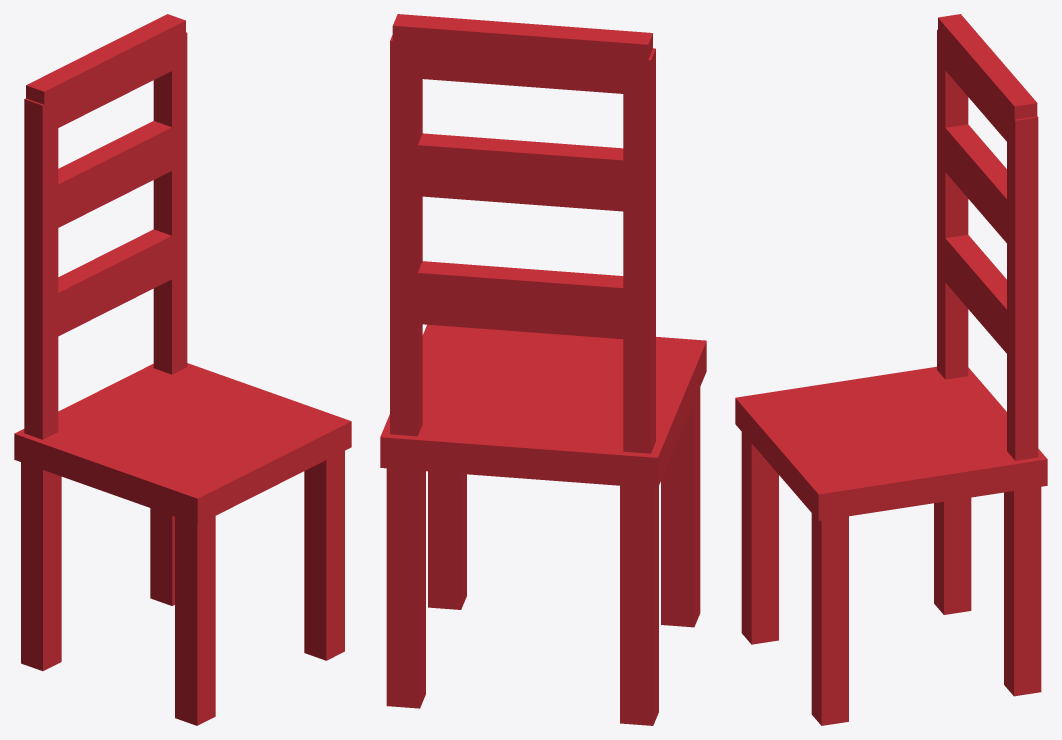
Rendered from shop-red-chair.glb.
3 renders of one model, left to right at view 1: azimuth 30°, elevation 25°; view 2: azimuth 150°, elevation 25°; view 3: azimuth 270°, elevation 25°, orthographic. The views are drawn at different scales.
Parts seen in each view (by area): view 1: RedChair_Seat, RedChair_BackR, RedChair_BackL, RedChair_Leg.003, RedChair_Leg.002, RedChair_Leg.001, RedChair_Rail.002, RedChair_Rail, RedChair_Rail.001, RedChair_Leg; view 2: RedChair_Seat, RedChair_Rail.002, RedChair_Rail.001, RedChair_Rail, RedChair_BackR, RedChair_Leg, RedChair_Leg.002, RedChair_BackL, RedChair_Leg.003, RedChair_Leg.001; view 3: RedChair_Seat, RedChair_BackL, RedChair_Leg.001, RedChair_Leg, RedChair_Leg.003, RedChair_BackR, RedChair_Rail.002, RedChair_Rail.001, RedChair_Rail, RedChair_Leg.002.
Boxes of the visible parts, <box> form: RedChair_Seat: <box>14,363,351,524</box>; RedChair_BackR: <box>24,98,58,439</box>; RedChair_BackL: <box>153,32,187,374</box>; RedChair_Leg.003: <box>175,516,215,725</box>; RedChair_Leg.002: <box>21,462,61,670</box>; RedChair_Leg.001: <box>304,451,344,660</box>; RedChair_Rail.002: <box>26,14,185,127</box>; RedChair_Rail: <box>55,229,171,336</box>; RedChair_Rail.001: <box>55,121,171,228</box>; RedChair_Leg: <box>150,508,174,605</box>; RedChair_Seat: <box>380,324,706,488</box>; RedChair_Rail.002: <box>392,14,652,95</box>; RedChair_Rail.001: <box>392,133,648,213</box>; RedChair_Rail: <box>392,261,648,340</box>; RedChair_BackR: <box>623,48,655,453</box>; RedChair_Leg: <box>386,468,425,708</box>; RedChair_Leg.002: <box>620,485,658,725</box>; RedChair_BackL: <box>390,35,422,436</box>; RedChair_Leg.003: <box>661,387,700,627</box>; RedChair_Leg.001: <box>428,471,466,609</box>; RedChair_Seat: <box>735,366,1047,520</box>; RedChair_BackL: <box>1007,111,1038,460</box>; RedChair_Leg.001: <box>811,513,848,725</box>; RedChair_Leg: <box>1004,487,1041,696</box>; RedChair_Leg.003: <box>741,432,778,644</box>; RedChair_BackR: <box>937,29,968,379</box>; RedChair_Rail.002: <box>938,14,1037,141</box>; RedChair_Rail.001: <box>944,124,1006,242</box>; RedChair_Rail: <box>944,235,1006,353</box>; RedChair_Leg.002: <box>934,497,971,614</box>.
Bounding box in the file's own units: 0.6409 × 1.33 × 0.6409.
